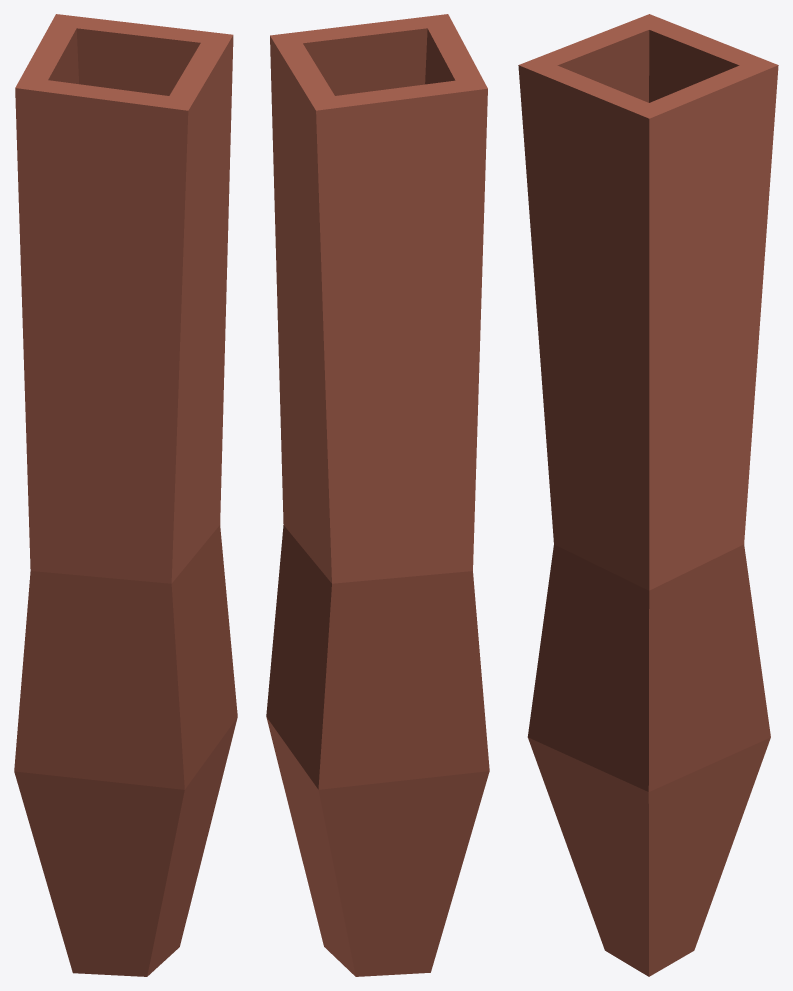
File: quiver.glb
3 views of the same model, side by side, from view 1: azimuth 30°, elevation 25°; view 2: azimuth 150°, elevation 25°; view 3: azimuth 270°, elevation 25° (orthographic).
Parts seen in each view (by area): view 1: quiver.001; view 2: quiver.001; view 3: quiver.001.
Part boxes in pixels (x1=…): quiver.001: x1=14, y1=14, x2=237, y2=976; quiver.001: x1=266, y1=14, x2=489, y2=976; quiver.001: x1=518, y1=14, x2=778, y2=976.
Size of the model in its own units: 0.2603 by 1 by 0.2667.
1 material, 1 textured.
